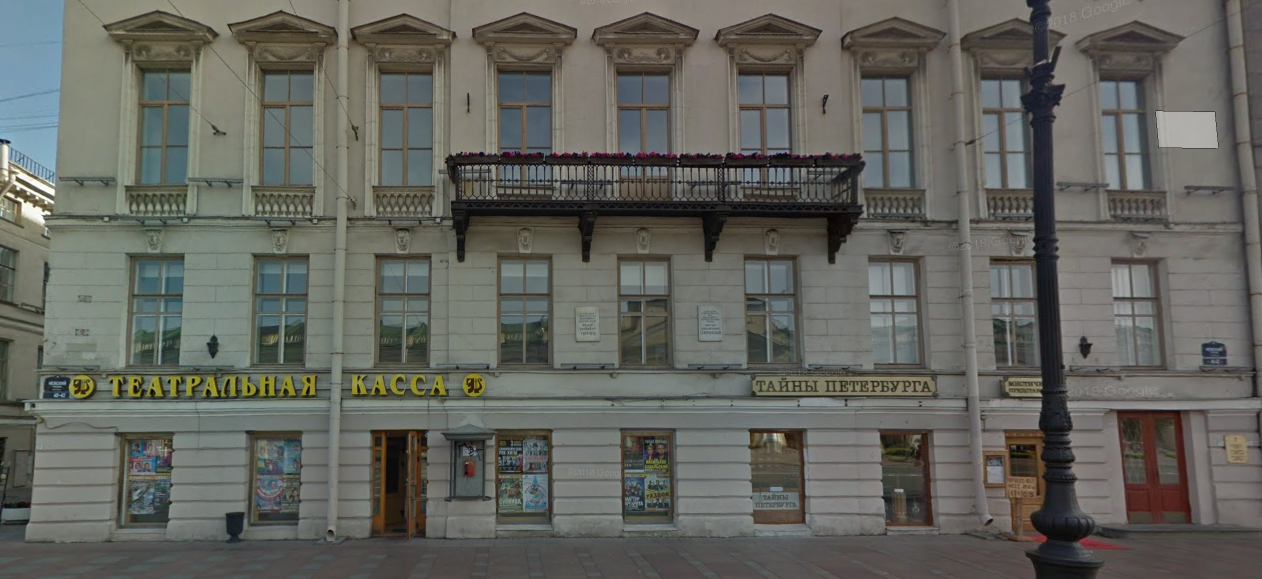door: (1119, 415, 1187, 523), (370, 434, 427, 539)
signboard: (55, 369, 494, 401), (746, 372, 944, 402)
window: (135, 70, 193, 189), (861, 79, 921, 189), (1098, 77, 1153, 194), (250, 258, 308, 368), (867, 259, 929, 361), (617, 259, 675, 368), (126, 257, 182, 369), (1113, 256, 1169, 368), (980, 75, 1035, 187), (373, 261, 432, 365), (746, 257, 801, 368), (259, 69, 311, 185), (380, 72, 430, 185), (879, 433, 936, 530), (621, 430, 678, 526), (739, 74, 789, 181), (498, 74, 548, 179), (990, 260, 1039, 367), (622, 74, 674, 174), (750, 433, 807, 522), (500, 261, 548, 366), (116, 439, 169, 526), (496, 436, 544, 529), (248, 441, 298, 524)
